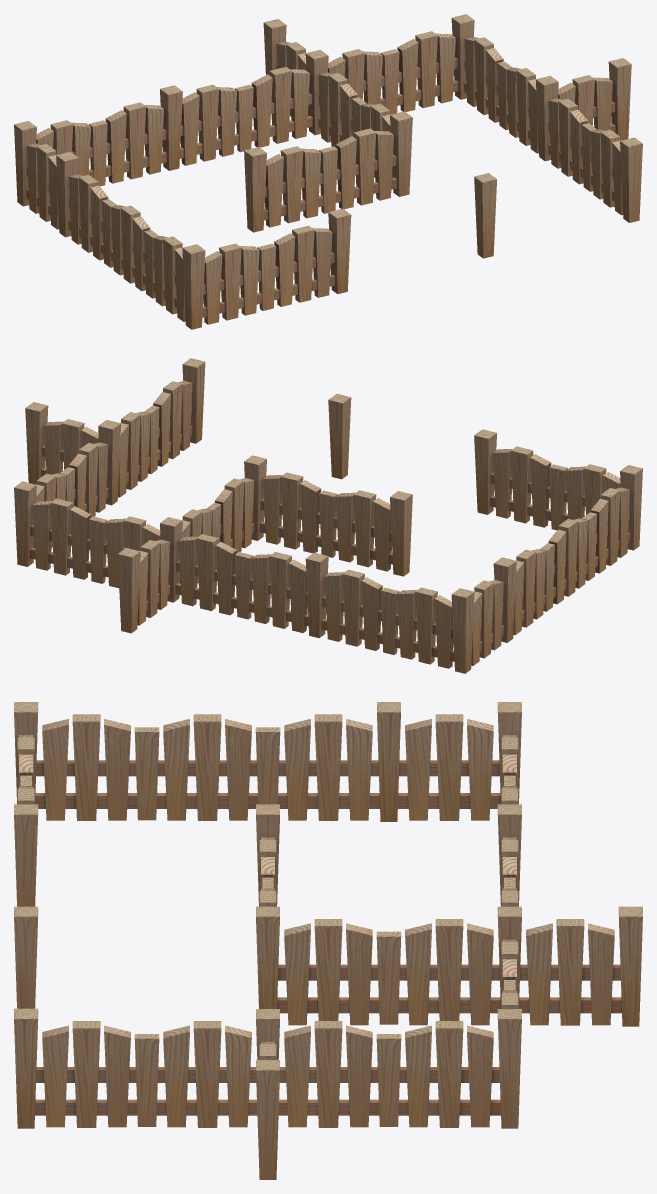
The model's file is fence.glb.
3 renders of one model, top to bottom at view 1: azimuth 30°, elevation 25°; view 2: azimuth 150°, elevation 25°; view 3: azimuth 270°, elevation 25°, orthographic. The views are drawn at different scales.
Parts seen in each view (by area): view 1: prefab; view 2: prefab; view 3: prefab.
Boxes of the visible parts, <box> form: prefab: <box>14,14,642,329</box>; prefab: <box>14,358,642,673</box>; prefab: <box>14,702,642,1179</box>.
Size of the model in its own units: 9.92 by 1.4 by 7.16.
Materials: 1 (1 with a texture image).
